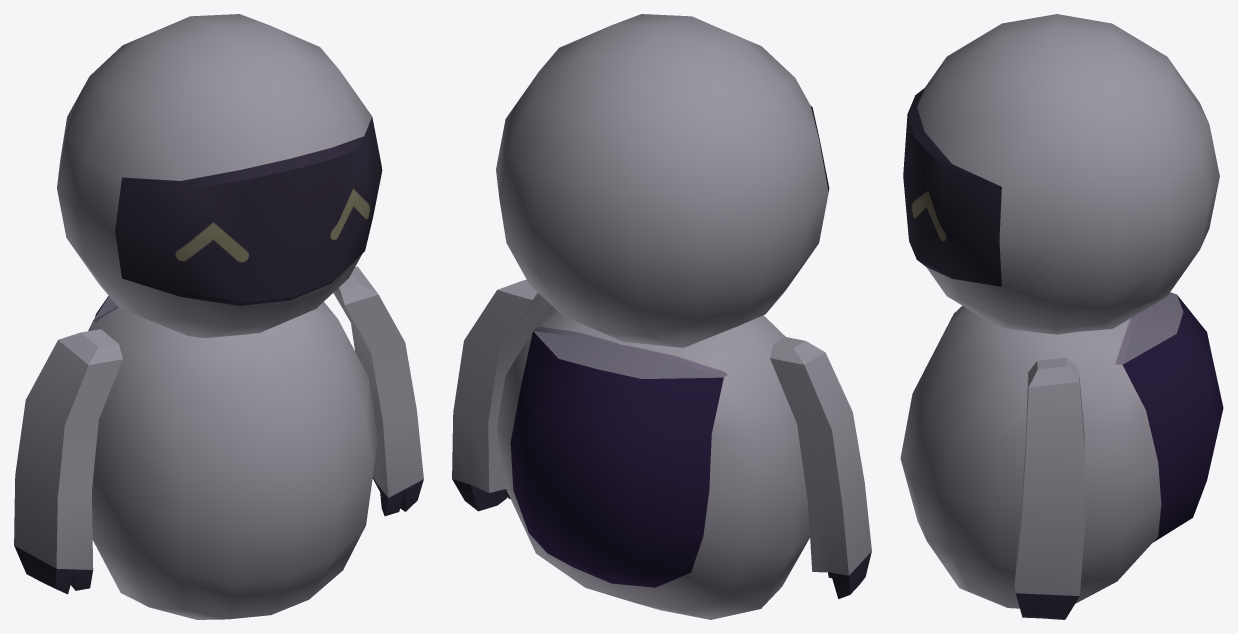
The model's file is Robo.fbx.
3 views of the same model, side by side, from view 1: azimuth 30°, elevation 25°; view 2: azimuth 150°, elevation 25°; view 3: azimuth 270°, elevation 25° (orthographic). The views are drawn at different scales.
Visible parts, largest first — view 1: Head, Body, R_Arm, L_Arm; view 2: Head, Body, R_Arm, L_Arm; view 3: Head, Body, L_Arm.
Part boxes in pixels (x1,y1,x2,y2): Head: [57, 14, 382, 337]; Body: [88, 296, 377, 619]; R_Arm: [14, 329, 122, 594]; L_Arm: [333, 266, 423, 516]; Head: [496, 14, 829, 347]; Body: [496, 308, 809, 619]; R_Arm: [770, 337, 871, 598]; L_Arm: [452, 279, 553, 511]; Head: [903, 14, 1219, 334]; Body: [900, 292, 1223, 608]; L_Arm: [1014, 358, 1084, 619].
Bounding box in the file's own units: 2.38 × 3.32 × 1.73.
